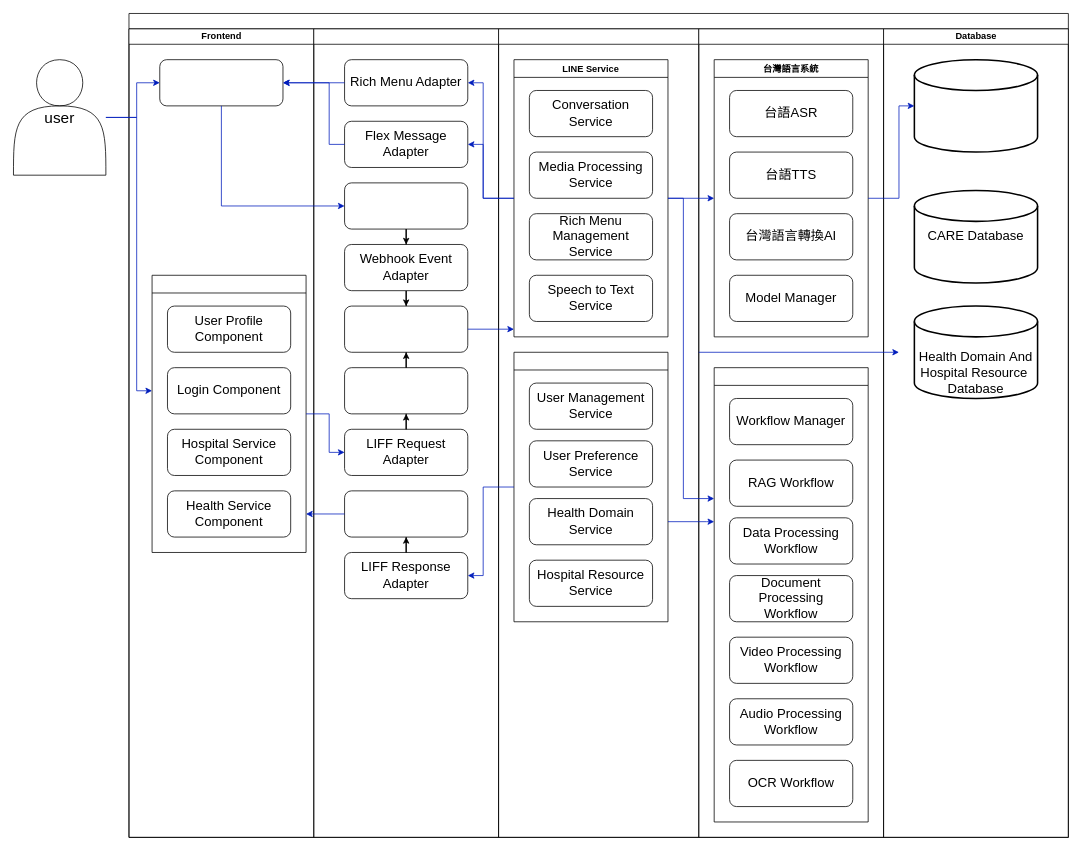
The diagram is 1082 pixels wide and 851 high, and some of its shapes have lost their labels. The shapes that lost their labels are listed below. From the top down, each one's box as (x1, y1, x2, y2) in pixels, then its label:
(159, 59, 283, 106): LINE Message Client (Exernal System)
(913, 59, 1038, 152): 台語資料庫(外部)
(344, 182, 468, 229): Webhook Controller
(344, 305, 468, 352): Request Router
(344, 367, 468, 414): LIFF Session Validator
(151, 275, 306, 552): LIFF Frontend
(313, 28, 499, 837): Backend for Frontend
(498, 28, 699, 837): Backend
(698, 28, 884, 837): External Service
(513, 352, 668, 622): LIFF Ser vice
(344, 490, 468, 537): Response Formatter
(713, 367, 868, 822): MCP Server
